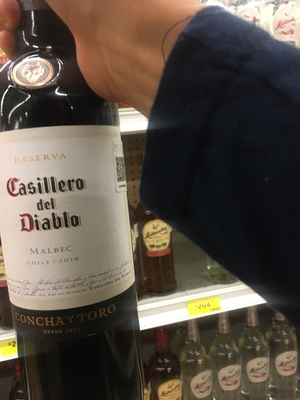casillero del diablo malbec: (2, 33, 156, 400)
